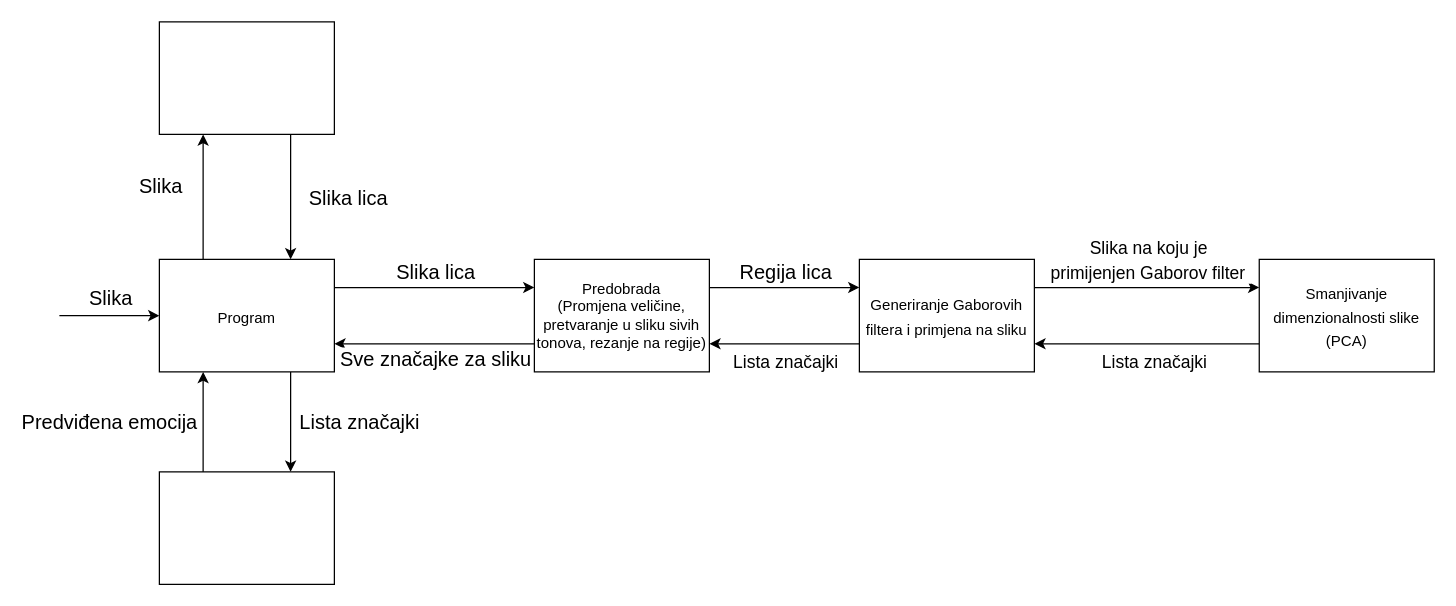
This 1456x606 diagram has some shape labels left out. The shapes that lost their labels are listed below. From the top down, each one's centre as x and y in pixels, then its label:
[246,77]: Klasifikator za lice
[246,527]: Klasifikator za emocije
